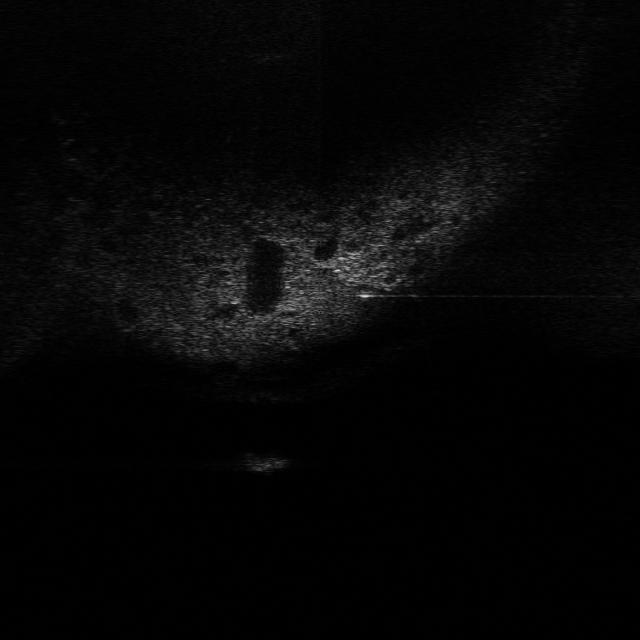cube: (229, 446, 293, 475)
